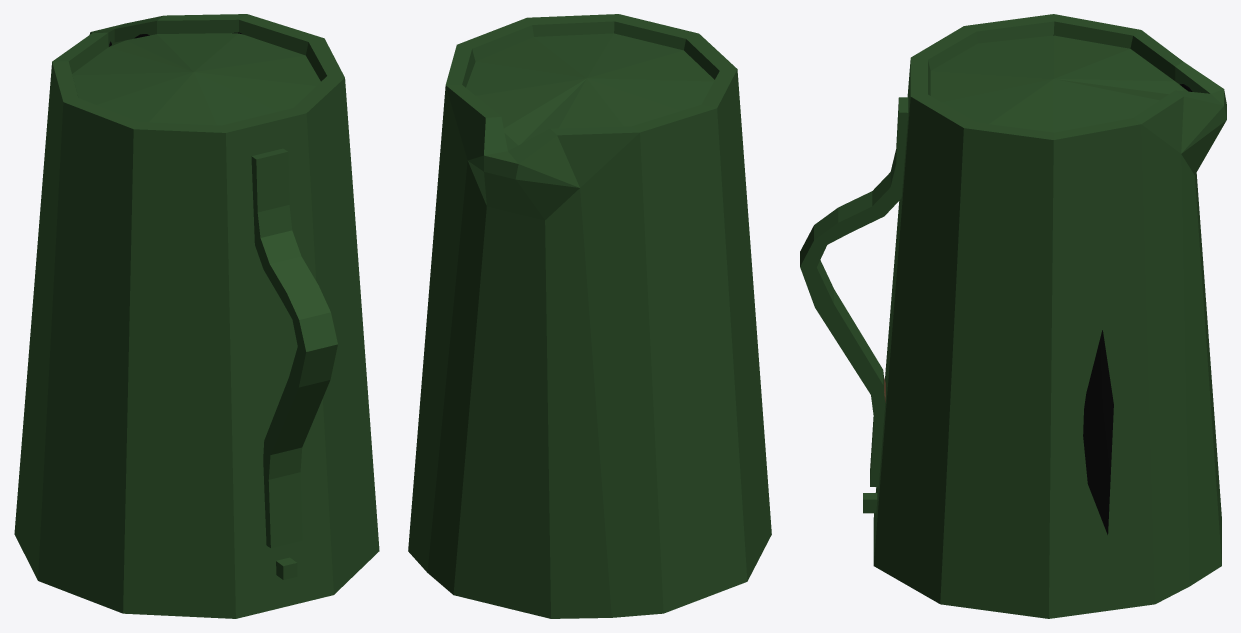
The model's file is Kettle_01_Mesh.fbx.
The picture shows the model from 3 angles, left to right: view 1: azimuth 30°, elevation 25°; view 2: azimuth 150°, elevation 25°; view 3: azimuth 270°, elevation 25°; orthographic projection.
Visible parts, largest first — view 1: KettleCups_01_col; view 2: KettleCups_01_col; view 3: KettleCups_01_col, KettleCups_01_LOD0.
Part boxes in pixels (x1,y1,x2,y2): KettleCups_01_col: [14, 14, 379, 618]; KettleCups_01_col: [408, 14, 771, 618]; KettleCups_01_col: [800, 14, 1226, 618]; KettleCups_01_LOD0: [884, 35, 1192, 534].
Size of what is drawn, in the model's own units: 17.27 by 24.49 by 20.35.
